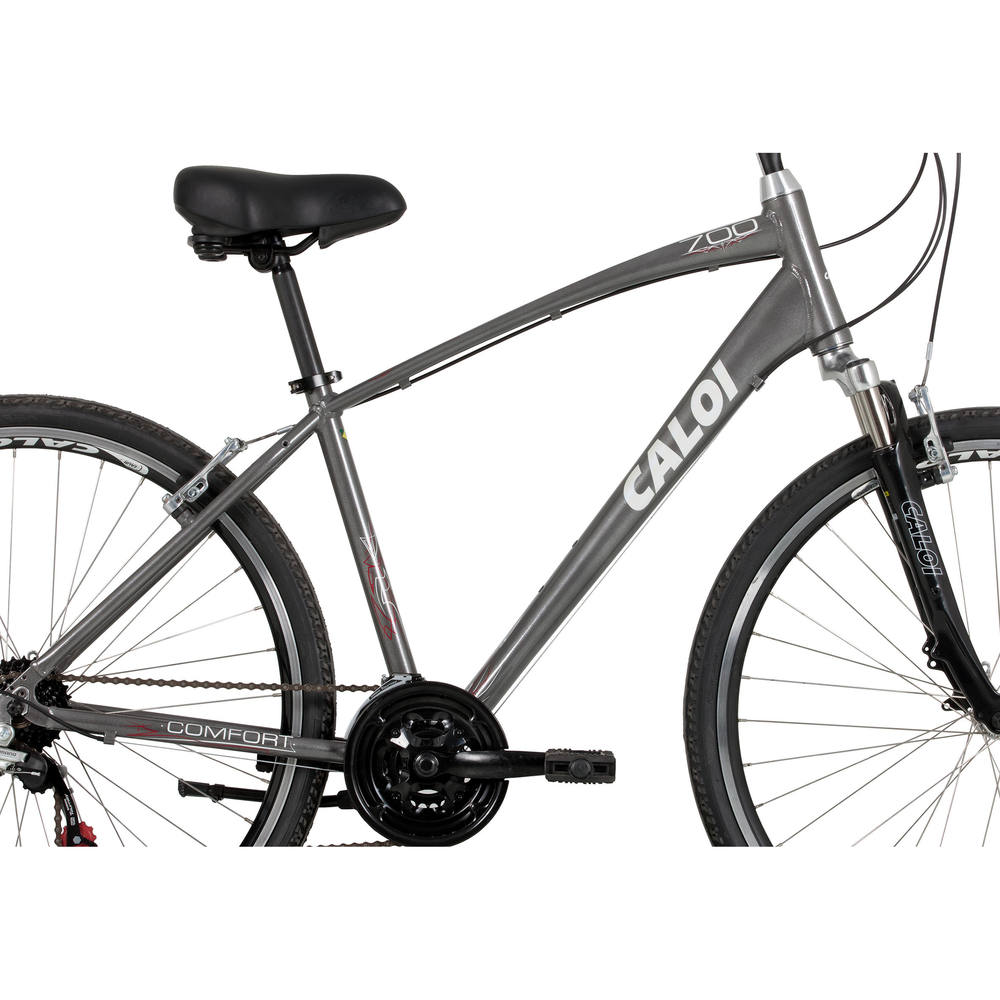UrbanBike: (1, 132, 1000, 894)
